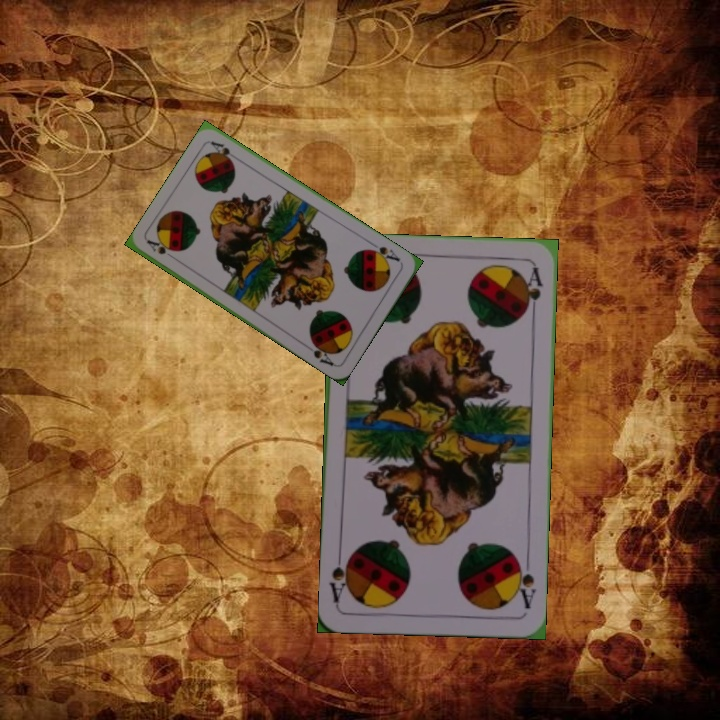SA: (511, 553, 539, 612), (364, 239, 403, 266), (143, 236, 176, 257)
